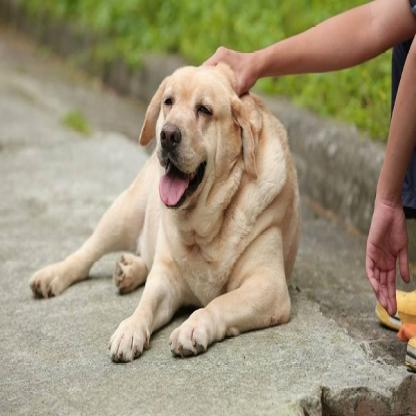dog: (27, 63, 301, 358)
